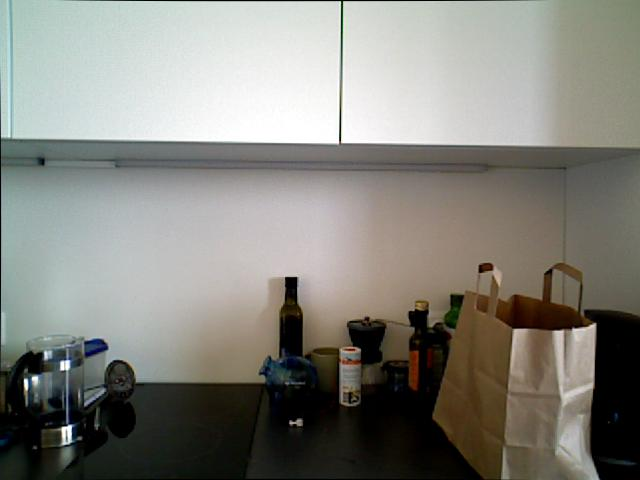bench: (441, 289, 468, 397), (278, 275, 303, 385), (408, 299, 431, 393)
handbag: (6, 330, 89, 452), (306, 345, 343, 389)
skateboard: (435, 256, 604, 480)
